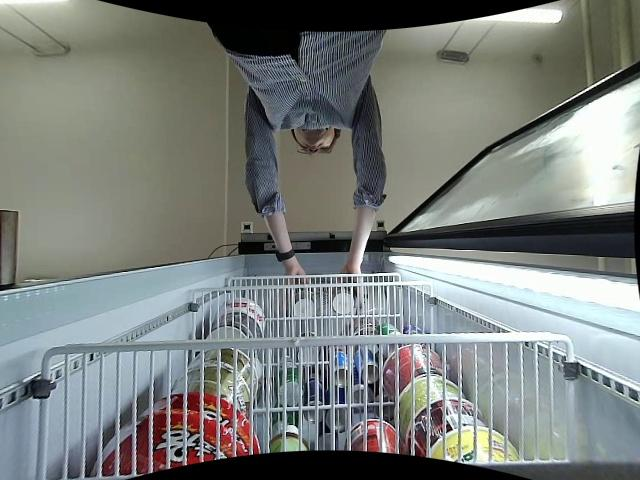00_hand: (333, 268, 366, 297), (283, 269, 310, 289)
